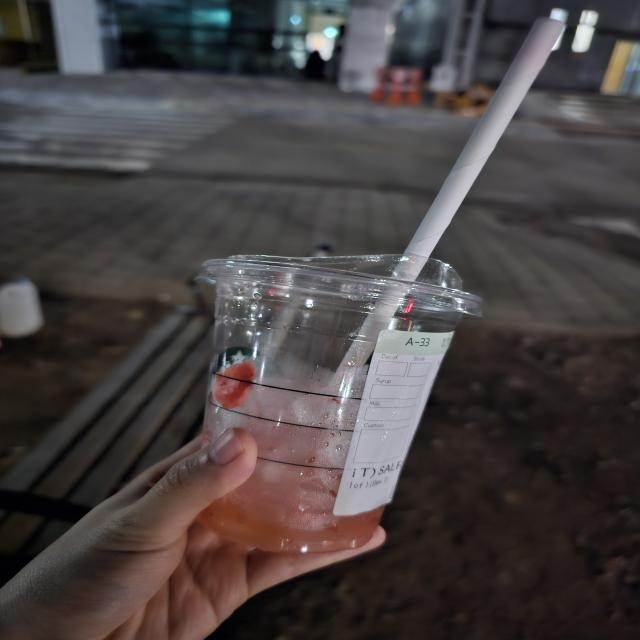cup: (172, 247, 485, 559)
